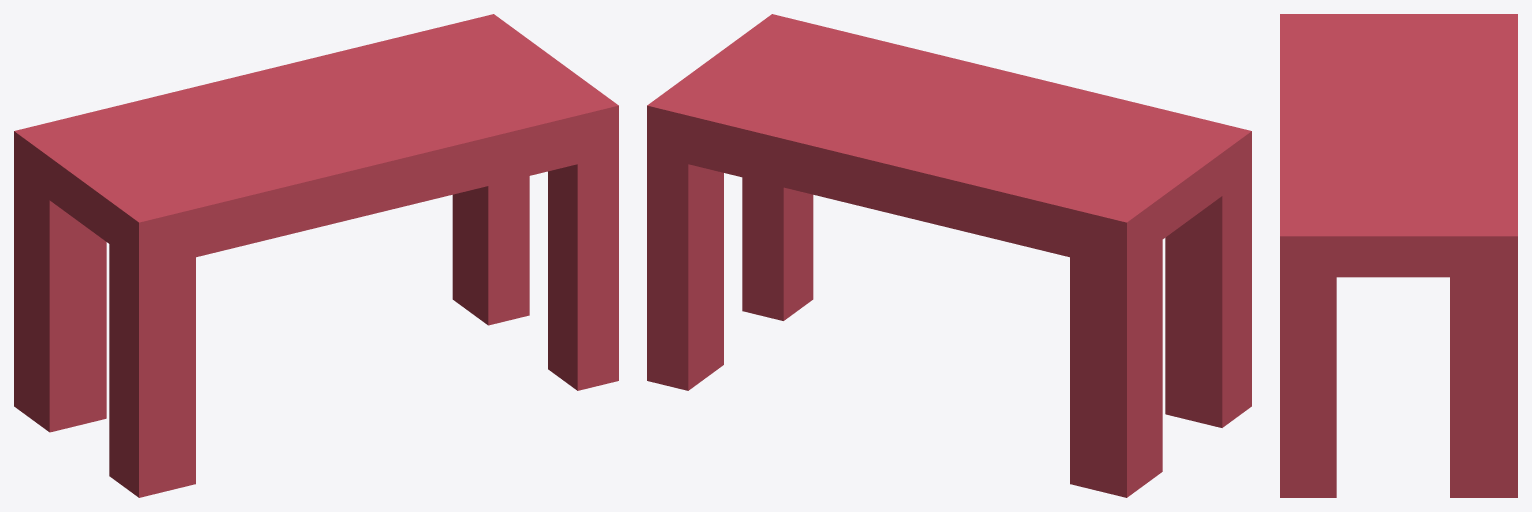
File: Table model.glb
The picture shows the model from 3 angles, left to right: view 1: azimuth 30°, elevation 25°; view 2: azimuth 150°, elevation 25°; view 3: azimuth 270°, elevation 25°; orthographic projection. The views are drawn at different scales.
Visible parts, largest first — view 1: Mesh_Mesh_head_geo.001_lambert2SG.001; view 2: Mesh_Mesh_head_geo.001_lambert2SG.001; view 3: Mesh_Mesh_head_geo.001_lambert2SG.001.
Boxes of the visible parts, x1,y1,x2,y2 form: Mesh_Mesh_head_geo.001_lambert2SG.001: [14, 14, 618, 497]; Mesh_Mesh_head_geo.001_lambert2SG.001: [647, 14, 1251, 497]; Mesh_Mesh_head_geo.001_lambert2SG.001: [1280, 14, 1517, 497].
Bounding box in the file's own units: 93 × 51 × 42.
